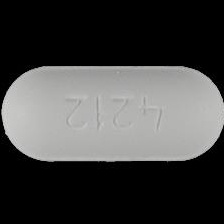63629-1623: (0, 0, 224, 224)
